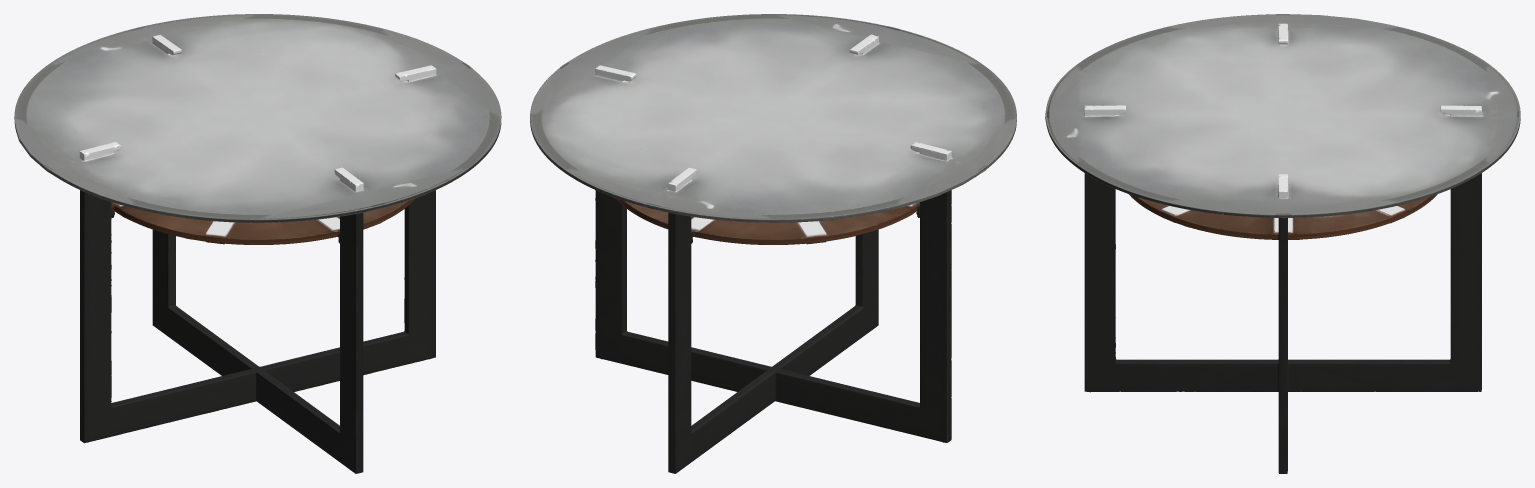
File: 4-seat-round-tempered-glass-dining-table-with-geometric-base.glb
The picture shows the model from 3 angles, left to right: view 1: azimuth 30°, elevation 25°; view 2: azimuth 150°, elevation 25°; view 3: azimuth 270°, elevation 25°; orthographic projection. The views are drawn at different scales.
Parts seen in each view (by area): view 1: Mesh_0; view 2: Mesh_0; view 3: Mesh_0.
Boxes of the visible parts, x1=… form: Mesh_0: x1=14, y1=14, x2=501, y2=473; Mesh_0: x1=530, y1=14, x2=1016, y2=473; Mesh_0: x1=1045, y1=14, x2=1520, y2=473.
Size of the model in its own units: 1.14 by 0.7517 by 1.14.
1 material, 1 textured.
